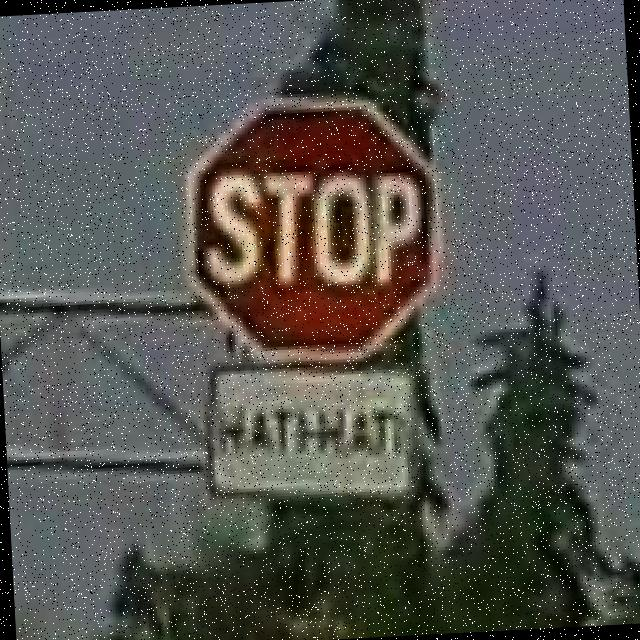Stop: (185, 94, 447, 370)
